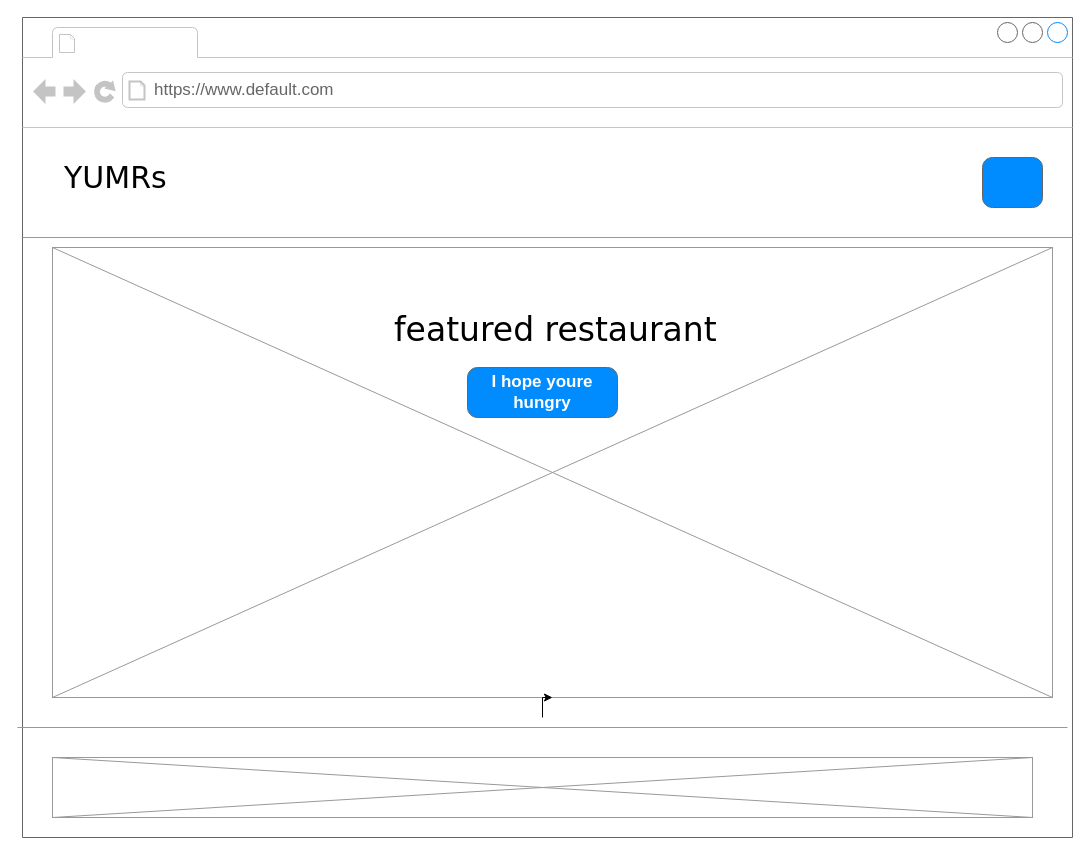
Some shapes in this 1090 by 855 pixel diagram are drawn without their labels. Here are the shapes that lost their labels. From the top down, the centre of each, then its label:
[137,42]: Page 1
[1012,182]: login
